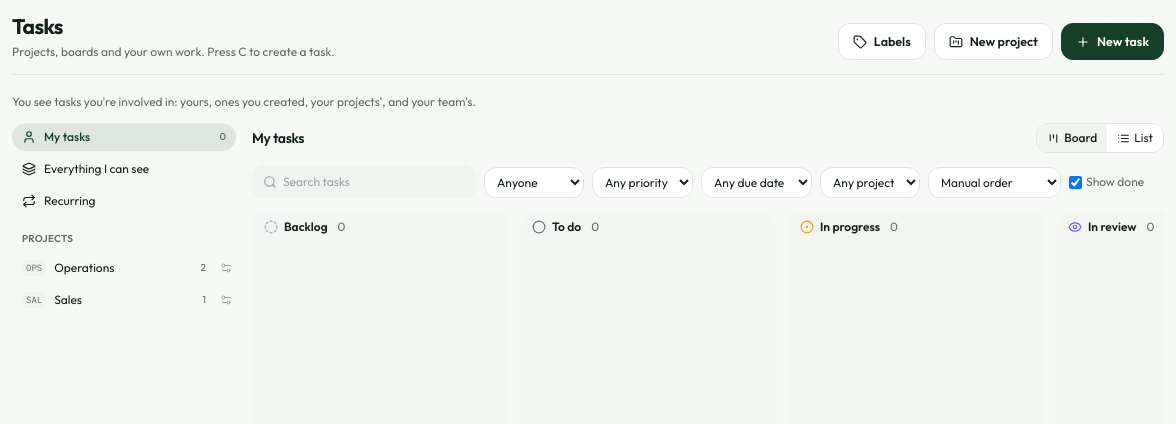
TaskWorkspace (admin) › says who sees what, and a manager outside a project is told they only see the tasks they are involved in
Expected: the text "You see tasks you're involved in" is shown, [12, 94, 476, 109]
Expected: the button "Everything I can see" is shown, [12, 155, 236, 183]
Step 1. Click the button "OPS Operations 2" → (114, 268), box [12, 254, 216, 282]
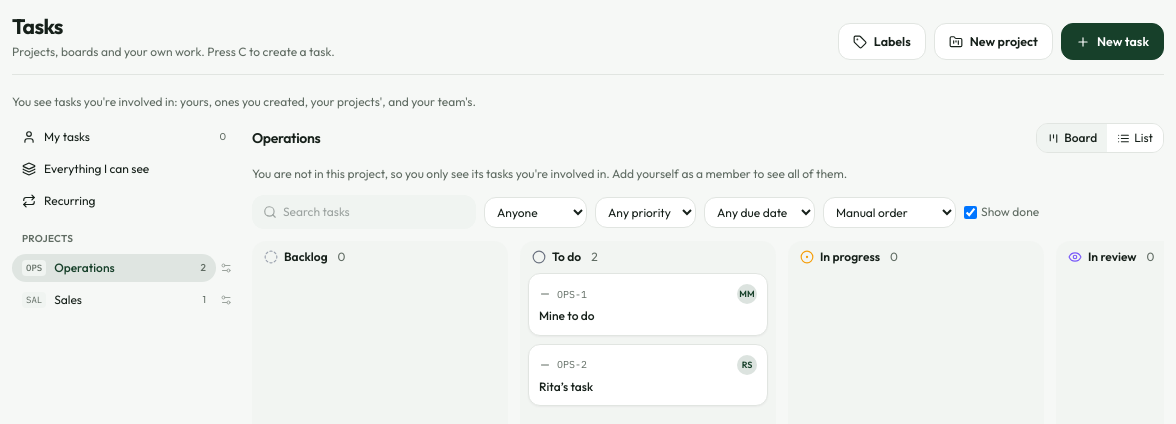
Now the text "You are not in this project" is shown, box [252, 166, 610, 181]
Now the text "Add yourself as a member" is shown, box [610, 166, 847, 181]
